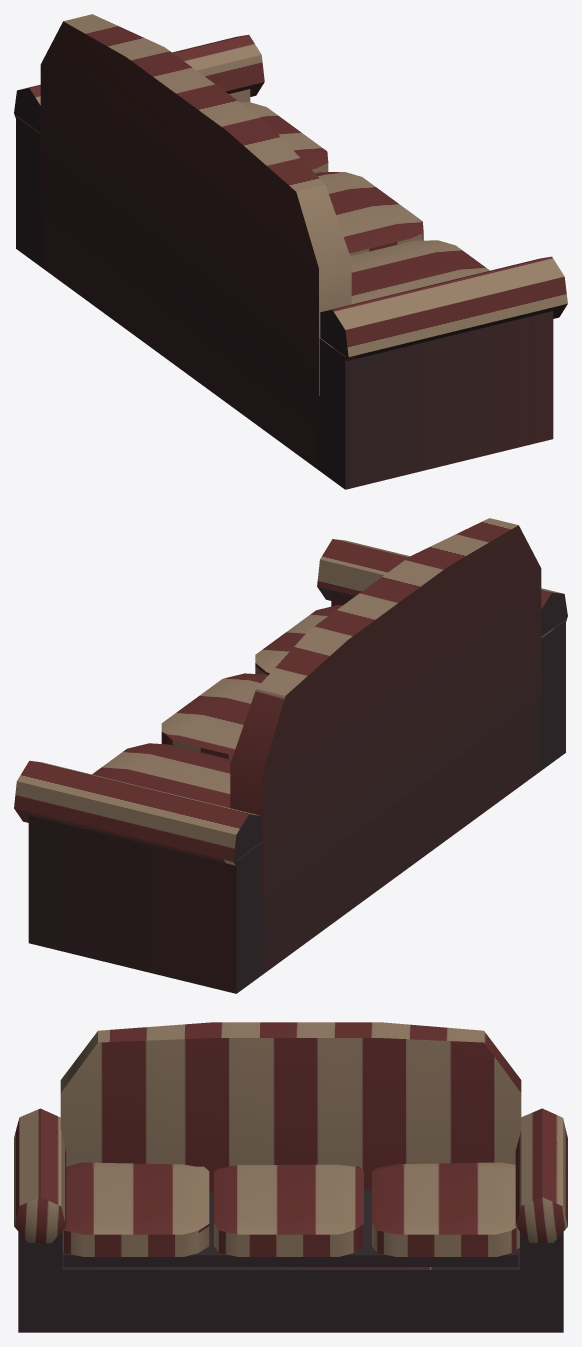
File: sillon2contexturas.fbx
3 renders of one model, top to bottom at view 1: azimuth 30°, elevation 25°; view 2: azimuth 150°, elevation 25°; view 3: azimuth 270°, elevation 25°, orthographic. The views are drawn at different scales.
Parts seen in each view (by area): view 1: pCube8; view 2: pCube8; view 3: pCube8.
Boxes of the visible parts, left/top/right/bottom form: pCube8: left=14, top=14, right=567, bottom=489; pCube8: left=14, top=518, right=567, bottom=993; pCube8: left=14, top=1022, right=567, bottom=1332.
Bounding box in the file's own units: 1.62 × 1.81 × 4.02.
Materials: 1 (1 with a texture image).
